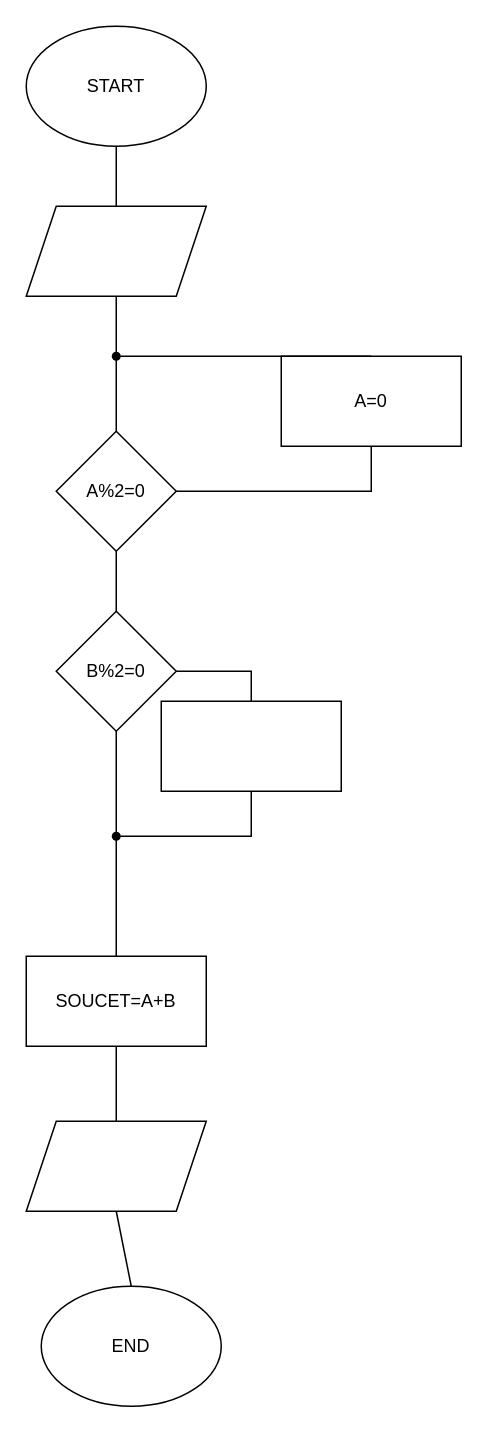
This 488x1433 diagram has some shape labels left out. The shapes that lost their labels are listed below. From the top down, each one's centre as x and y in pixels, then its label:
At point (115, 250): "IN: A,B".
At point (250, 745): "B=0".
At point (115, 1165): "OUT: SOUCET".
